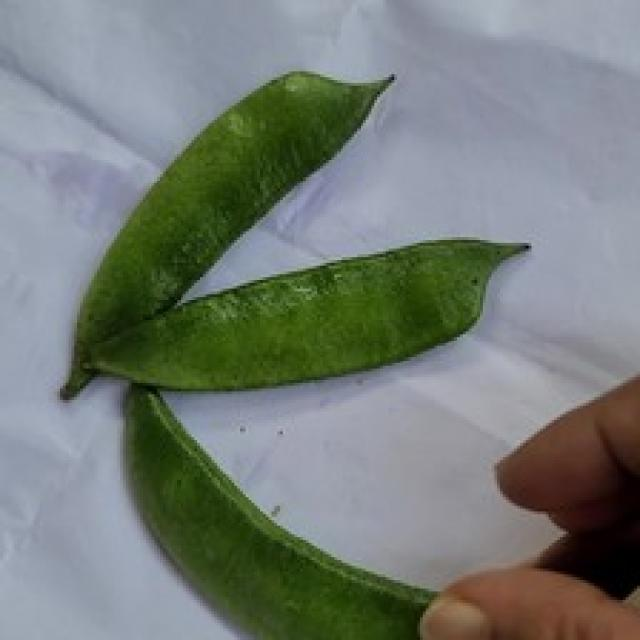Bean: (43, 70, 400, 386), (111, 365, 419, 640), (70, 239, 550, 398)
